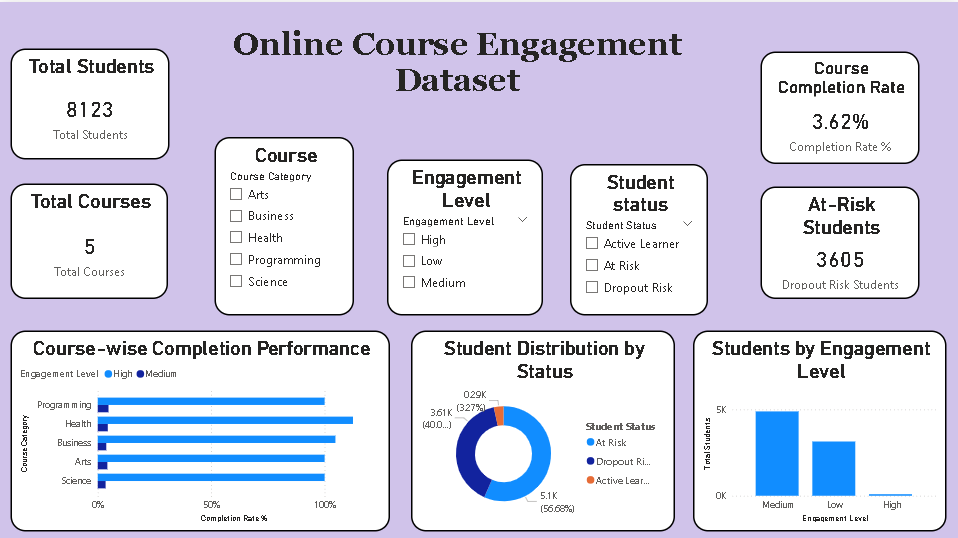

Layout of this report page (visuals, bound fields, positions):
{"tool":"powerbi","page":{"name":"Student Engagement Overview","canvas":[1280,720],"ordinal":0},"visuals":[{"type":"card","title":"Total Students ","fields":{"Values":["online_course_engagement_data u.Total Students"]},"box":[14,62,212,148],"z":0},{"type":"card","title":"Total Courses","fields":{"Values":["online_course_engagement_data u.Total Courses"]},"box":[14,242,210,154],"z":1000},{"type":"card","title":"At-Risk Students","fields":{"Values":["online_course_engagement_data u.Dropout Risk Students"]},"box":[1014,246,212,150],"z":2000},{"type":"clusteredBarChart","title":"Course-wise Completion Performance","fields":{"Category":["online_course_engagement_data u.Course Category"],"Y":["online_course_engagement_data u.Completion Rate %"],"Series":["online_course_engagement_data u.Engagement Level"]},"box":[14,438,506,268],"z":3000},{"type":"donutChart","title":"Student Distribution by Status","fields":{"Category":["online_course_engagement_data u.Student Status"],"Y":["CountNonNull(online_course_engagement_data u.Student ID)"]},"box":[548,438,352,268],"z":4000},{"type":"slicer","title":"Course","fields":{"Values":["online_course_engagement_data u.Course Category"]},"box":[286,180,186,238],"z":5000},{"type":"slicer","title":"Engagement Level","fields":{"Values":["online_course_engagement_data u.Engagement Level"]},"box":[516,210,208,208],"z":6000},{"type":"slicer","title":"Student status","fields":{"Values":["online_course_engagement_data u.Student Status"]},"box":[760,216,184,202],"z":7000},{"type":"card","title":"Course Completion Rate","fields":{"Values":["online_course_engagement_data u.Completion Rate %"]},"box":[1014,66,212,150],"z":8000},{"type":"clusteredColumnChart","title":"Students by Engagement Level","fields":{"Category":["online_course_engagement_data u.Engagement Level"],"Y":["online_course_engagement_data u.Total Students"]},"box":[924,438,338,268],"z":9000},{"type":"textbox","box":[248,26,722,134],"z":9001}]}

Visuals, with their boxes in screenshot pixels (x1, y1, x2, y2), scaled from the page's 1280x720 canvas onto the 958x538 screenshot:
"Total Students " card: box(10, 46, 169, 157)
"Total Courses" card: box(10, 181, 168, 296)
"At-Risk Students" card: box(759, 184, 918, 296)
"Course-wise Completion Performance" clusteredBarChart: box(10, 327, 389, 528)
"Student Distribution by Status" donutChart: box(410, 327, 674, 528)
"Course" slicer: box(214, 134, 353, 312)
"Engagement Level" slicer: box(386, 157, 542, 312)
"Student status" slicer: box(569, 161, 707, 312)
"Course Completion Rate" card: box(759, 49, 918, 161)
"Students by Engagement Level" clusteredColumnChart: box(692, 327, 945, 528)
textbox: box(186, 19, 726, 120)
